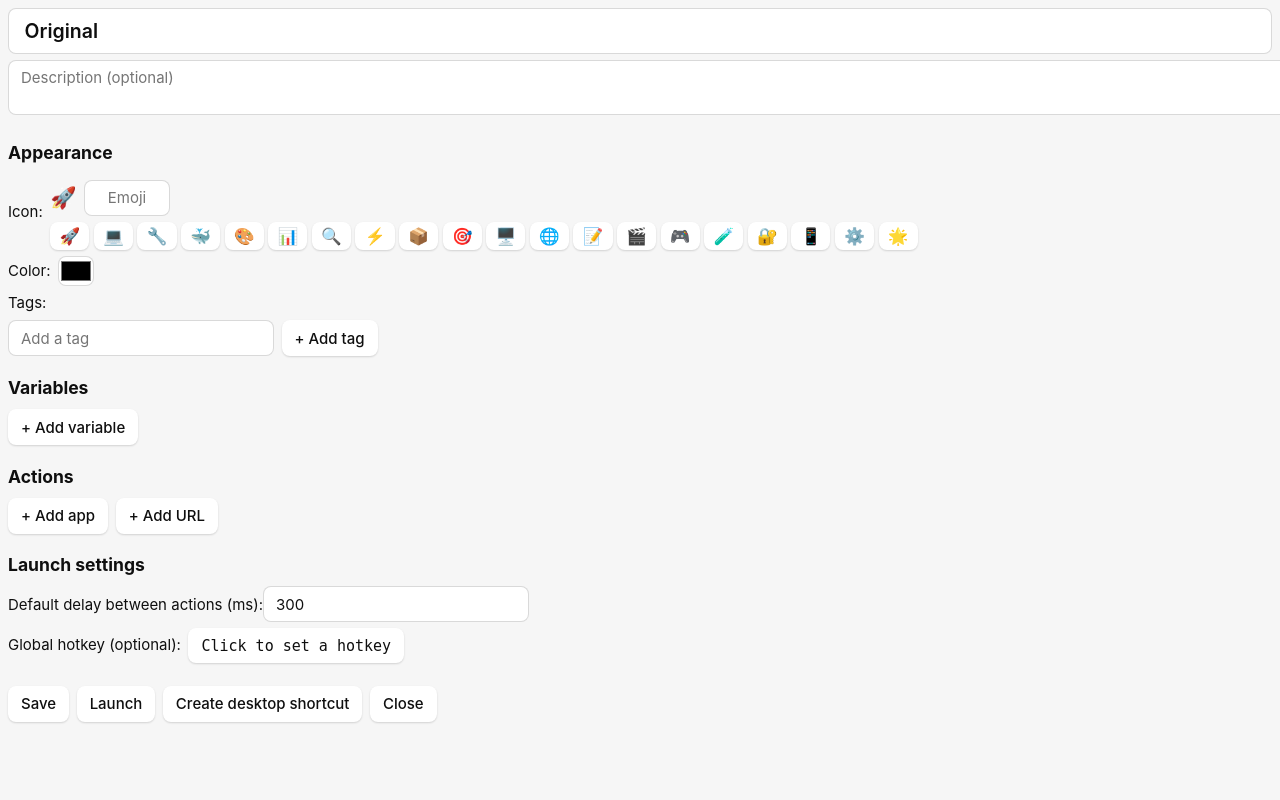
WorkspaceEditor › shows a confirm dialog before discarding unsaved changes, and Cancel keeps editing (#20)
The width and height of the screenshot is (1280, 800).
Type " edited" into the field with placeholder "Workspace name" at [640, 31], box 8,8 -> 1272,54
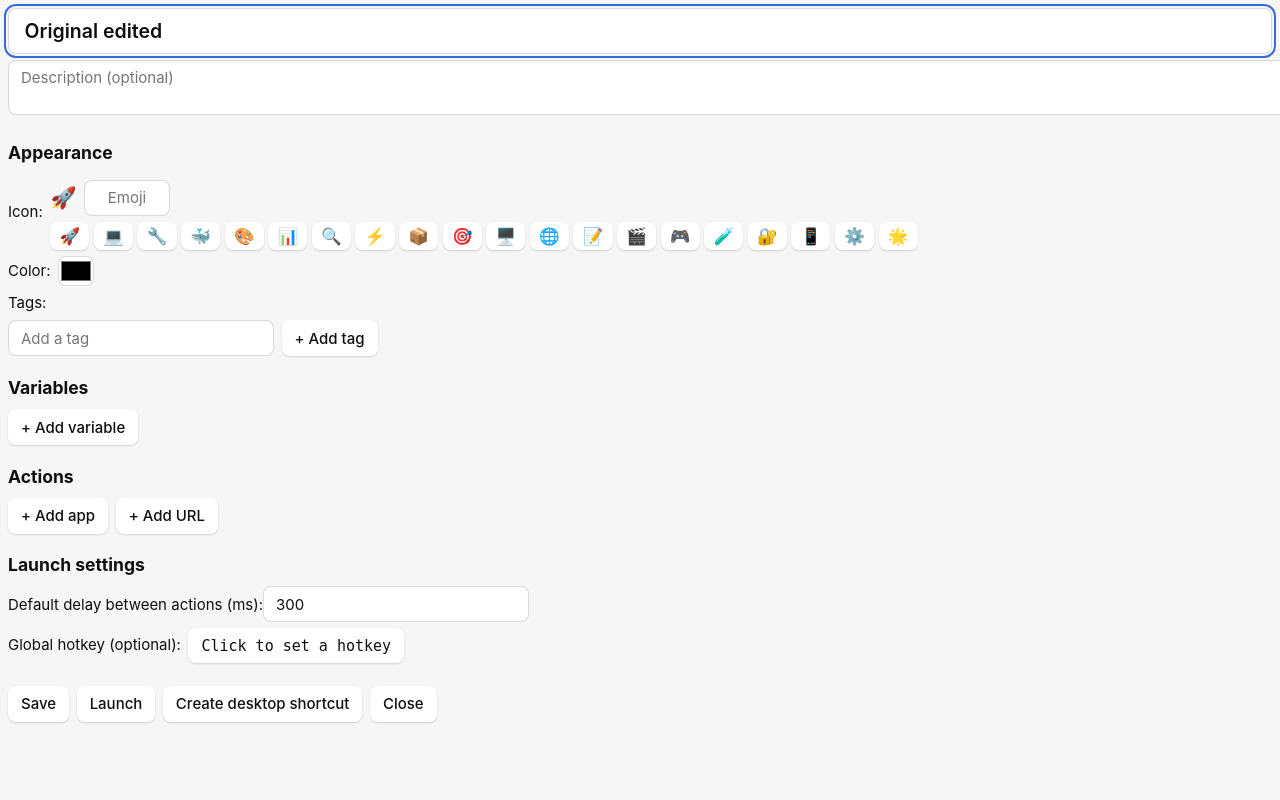
Click the button "Close" at [403, 704], box 370,686 -> 437,722
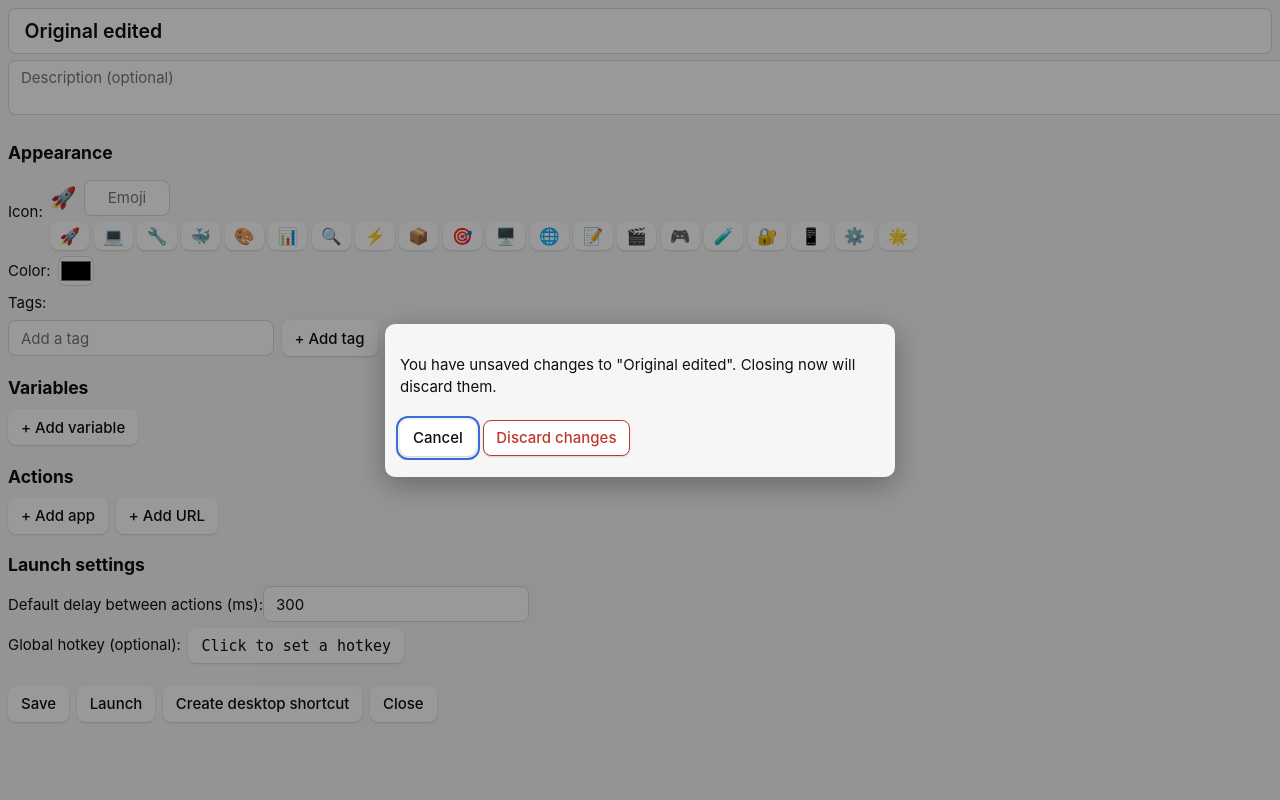
expect the dialog shows "unsaved changes": met, box 400,354 -> 623,374
Click the button "Cancel" at [438, 438], box 400,420 -> 476,456
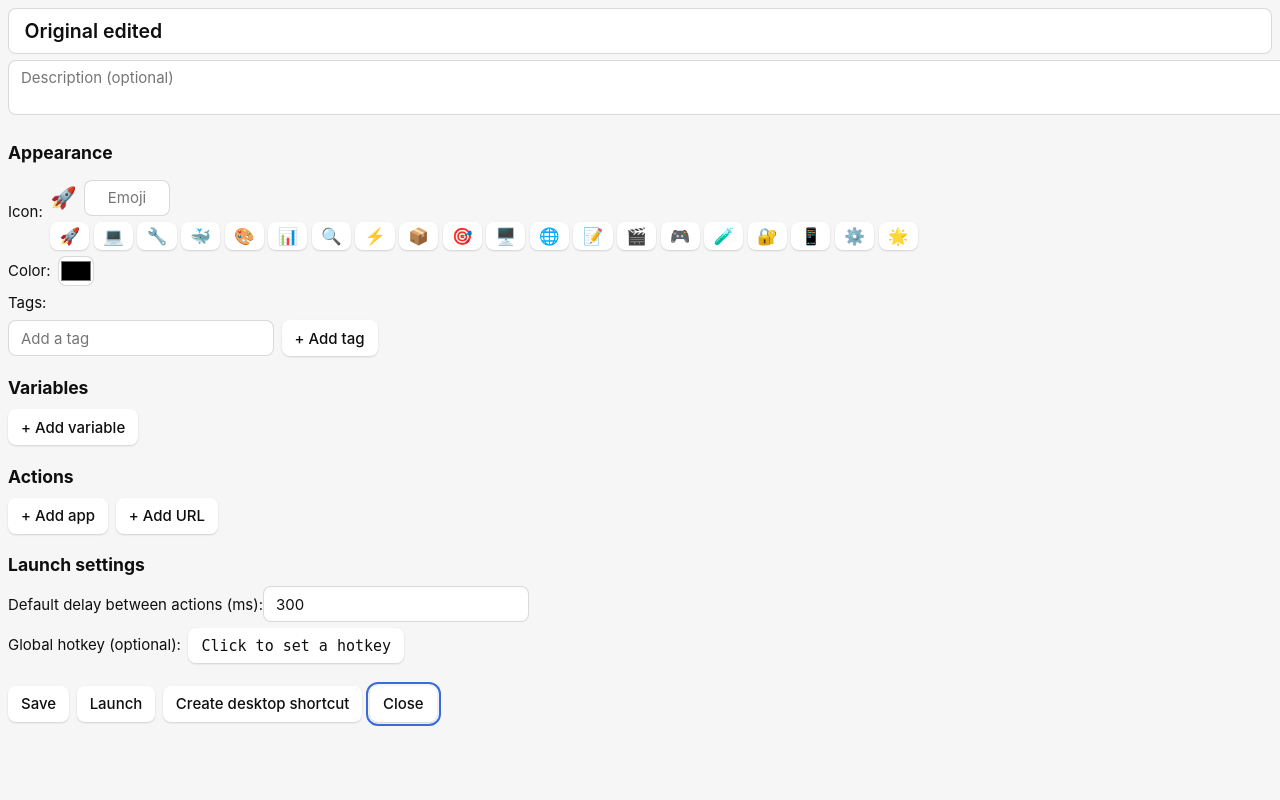
expect the dialog is gone: met
